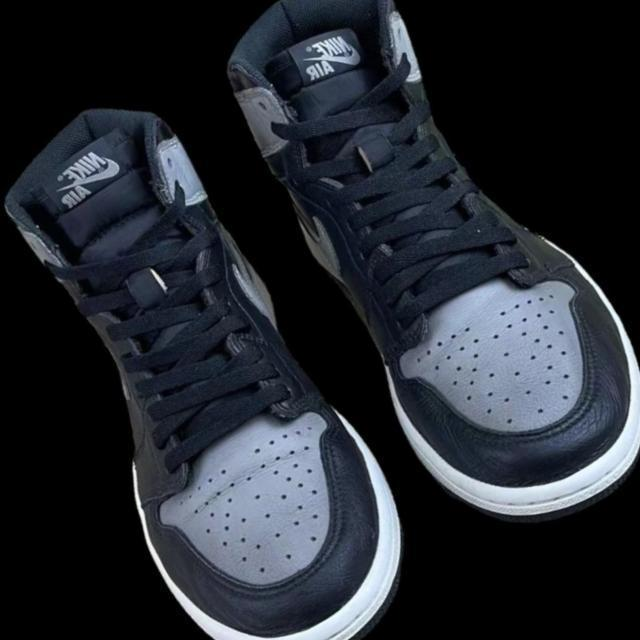nike original jordan 1: (0, 64, 457, 640), (183, 0, 640, 565)
